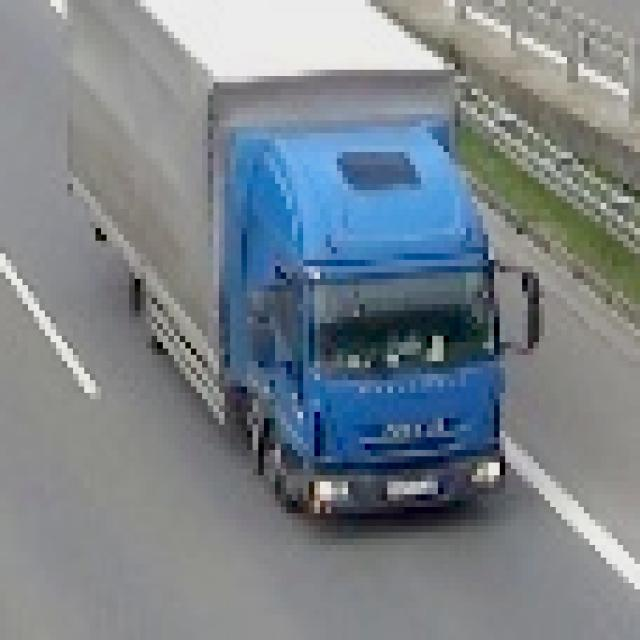truck: (63, 1, 534, 521)
